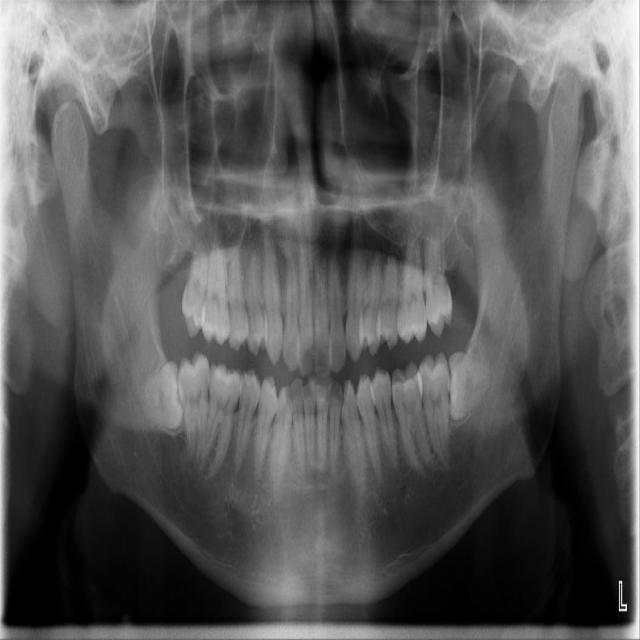73: (600, 592, 610, 606)
BioHorizons Implant: (422, 228, 454, 339)
Biomet 3i Implant: (447, 352, 491, 420)
Blue Sky Bio Implant: (417, 352, 451, 466)
Caries: (180, 241, 210, 338)
Implant: (173, 349, 211, 470)
Keystone Dental Implant: (138, 359, 189, 429)
